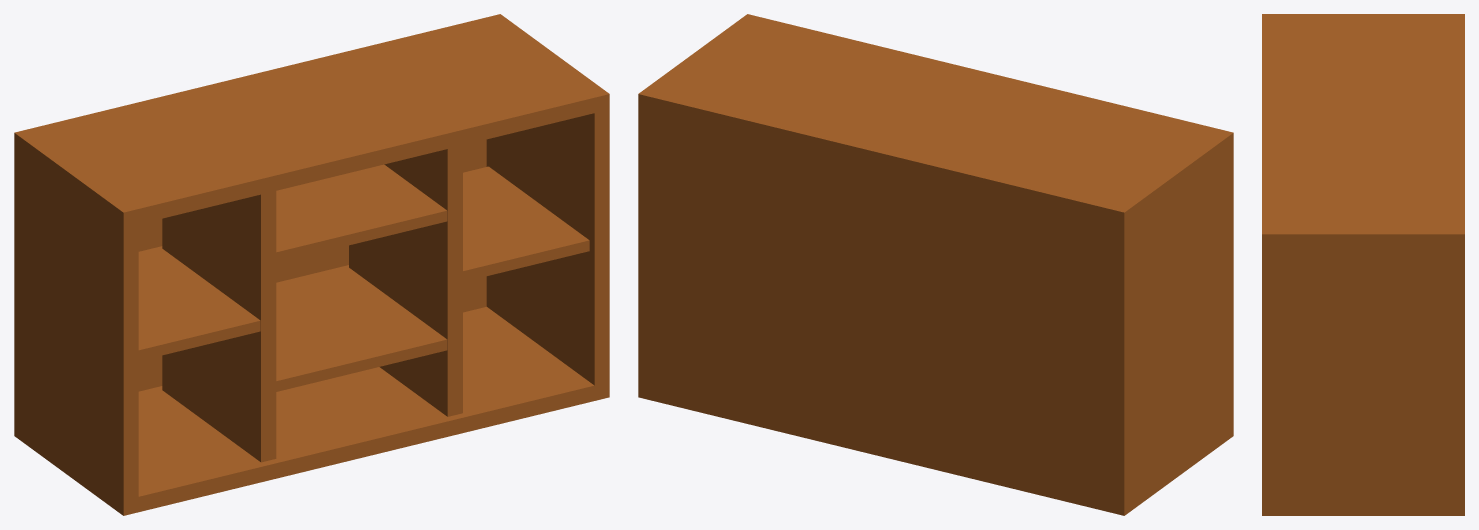
The model's file is Wall_Cabinet.fbx.
The picture shows the model from 3 angles, left to right: view 1: azimuth 30°, elevation 25°; view 2: azimuth 150°, elevation 25°; view 3: azimuth 270°, elevation 25°; orthographic projection. The views are drawn at different scales.
Visible parts, largest first — view 1: Wall Cabinet; view 2: Wall Cabinet; view 3: Wall Cabinet.
Part boxes in pixels (x1,y1,x2,y2): Wall Cabinet: [14, 14, 609, 515]; Wall Cabinet: [638, 14, 1233, 515]; Wall Cabinet: [1262, 14, 1464, 515].
Size of the model in its own units: 296 by 176 by 115.
